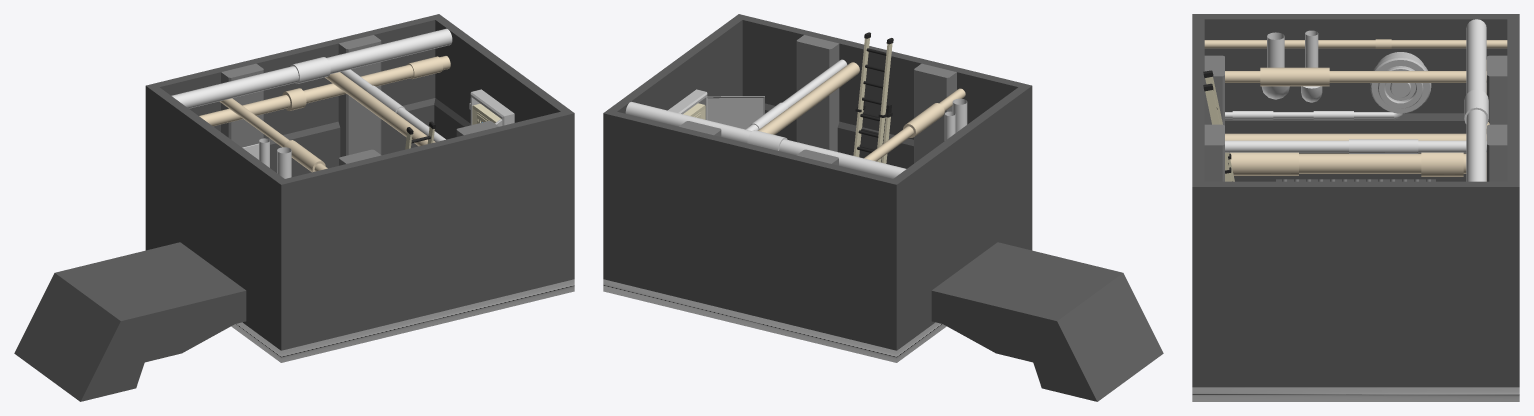
File: Bot.fbx
The picture shows the model from 3 angles, left to right: view 1: azimuth 30°, elevation 25°; view 2: azimuth 150°, elevation 25°; view 3: azimuth 270°, elevation 25°; orthographic projection. The views are drawn at different scales.
Parts seen in each view (by area): view 1: Cubo.010, Cubo.006, Cubo.005, Cubo.001, Cubo.007, Cilindro, Cubo, Cilindro.005, Cubo.003, Cubo.002, Cilindro.002, Cilindro.003 (+2 smaller); view 2: Cubo.001, Cubo.006, Cubo.005, Cubo.010, Cubo.007, Cubo, Cubo.011, Cilindro, Cubo.013, Cilindro.013, Cubo.016, Cilindro.002 (+3 smaller); view 3: Cubo.007, Cubo.005, Cubo.001, Cilindro.006, Cubo, Cilindro, Cilindro.003, Cilindro.001, Cubo.010, Cilindro.009, Cilindro.011, Cilindro.002 (+8 smaller).
Boxes of the visible parts, bbox=[...] form: Cubo.010: bbox=[274, 109, 574, 350]; Cubo.006: bbox=[14, 242, 246, 401]; Cubo.005: bbox=[150, 87, 289, 345]; Cubo.001: bbox=[145, 14, 443, 250]; Cubo.007: bbox=[434, 18, 574, 281]; Cilindro: bbox=[171, 28, 452, 108]; Cubo: bbox=[231, 279, 574, 362]; Cilindro.005: bbox=[199, 56, 450, 126]; Cubo.003: bbox=[338, 35, 381, 156]; Cubo.002: bbox=[221, 63, 263, 147]; Cilindro.002: bbox=[325, 72, 435, 146]; Cilindro.003: bbox=[219, 98, 327, 172]; Cubo.001: bbox=[603, 109, 903, 350]; Cubo.006: bbox=[931, 242, 1163, 401]; Cubo.005: bbox=[893, 86, 1032, 345]; Cubo.010: bbox=[734, 15, 1032, 250]; Cubo.007: bbox=[608, 14, 747, 113]; Cubo: bbox=[603, 279, 946, 362]; Cubo.011: bbox=[796, 35, 839, 151]; Cilindro: bbox=[625, 101, 906, 178]; Cubo.013: bbox=[914, 63, 956, 163]; Cilindro.013: bbox=[853, 32, 893, 163]; Cubo.016: bbox=[706, 96, 764, 129]; Cilindro.002: bbox=[758, 62, 859, 134]; Cubo.007: bbox=[1192, 181, 1507, 387]; Cubo.005: bbox=[1192, 14, 1507, 181]; Cubo.001: bbox=[1503, 14, 1519, 387]; Cilindro.006: bbox=[1229, 152, 1466, 176]; Cubo: bbox=[1192, 387, 1519, 401]; Cilindro: bbox=[1464, 19, 1488, 181]; Cilindro.003: bbox=[1225, 67, 1486, 86]; Cilindro.001: bbox=[1225, 139, 1486, 153]; Cubo.010: bbox=[1192, 14, 1208, 387]; Cilindro.009: bbox=[1204, 39, 1507, 48]; Cilindro.011: bbox=[1370, 52, 1431, 113]; Cilindro.002: bbox=[1225, 133, 1486, 140].
Bounding box in the file's own units: 783 × 360 × 400.
